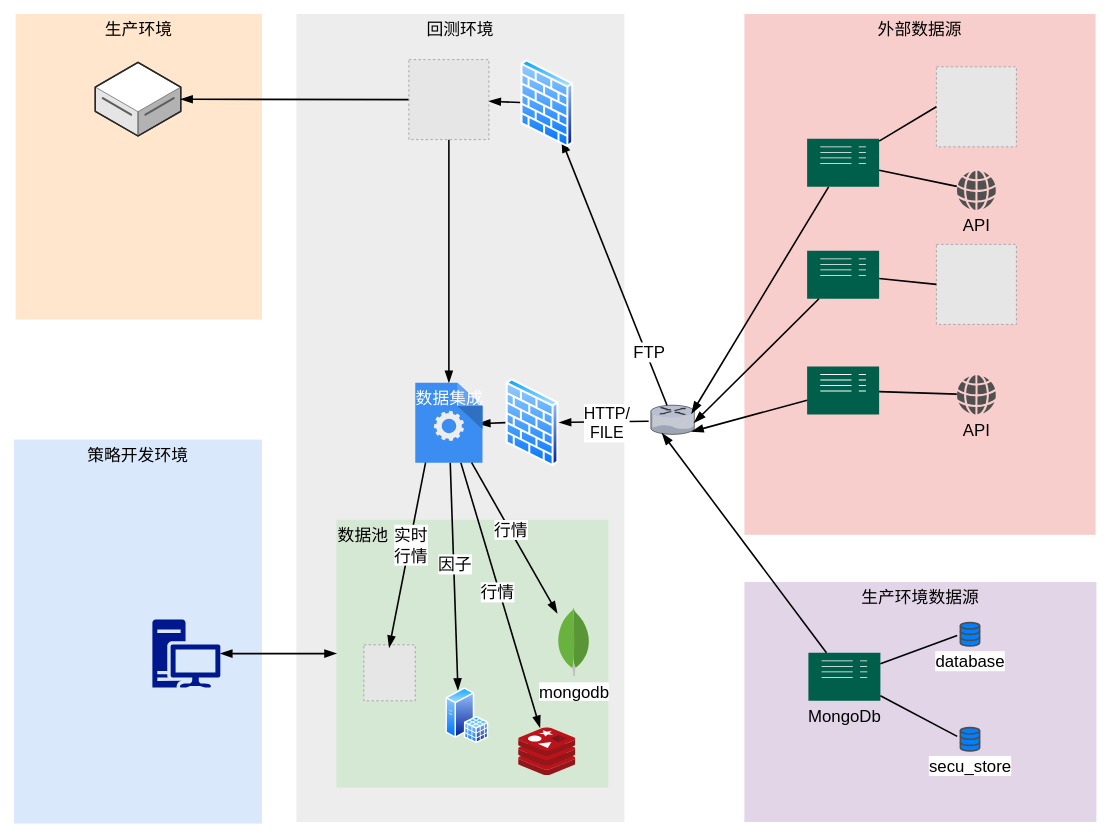
Image size: 1110x837. Some labels were removed from this diagram. Grey dashed boxes stand in for pictures. The shapes that lost their labels are listed below. From the top down, each one's centre as x and y in pixels, then its label:
At [137,99]: "数据中台".
At [843,162]: "TC".
At [843,274]: "标普".
At [843,390]: "聚宽".
At [466,715]: "sql".
At [546,751]: "redis".
